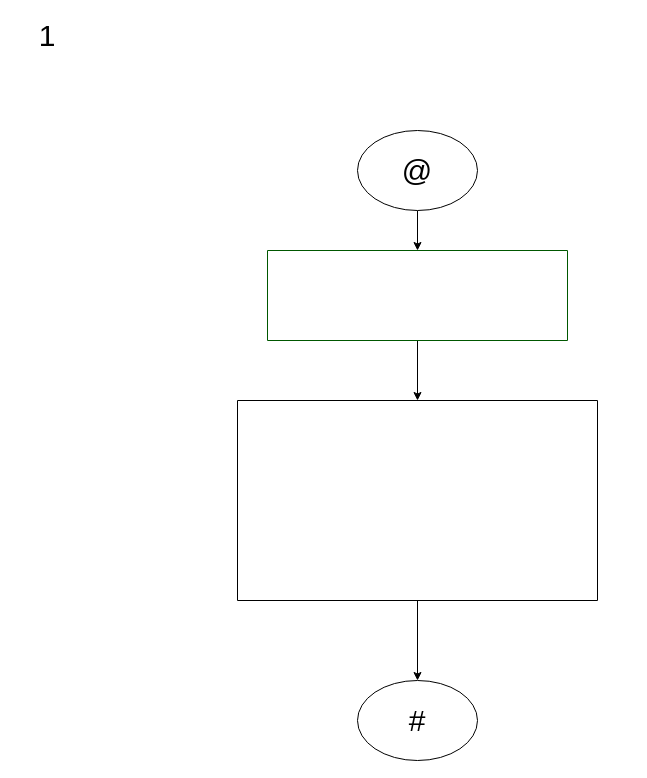
Image size: 647x778. Some labels were removed from this diagram. The shapes that lost their labels are listed below. From the top down, each one's centre as x and y in pixels, then its label:
the point at 417,295: احصل على قيمة رينج الصوت
the point at 417,500: عندما يحدث تغيير فى رينج الصوت يصبح صوت عنصر الاديو = قيمة الرينج /100
